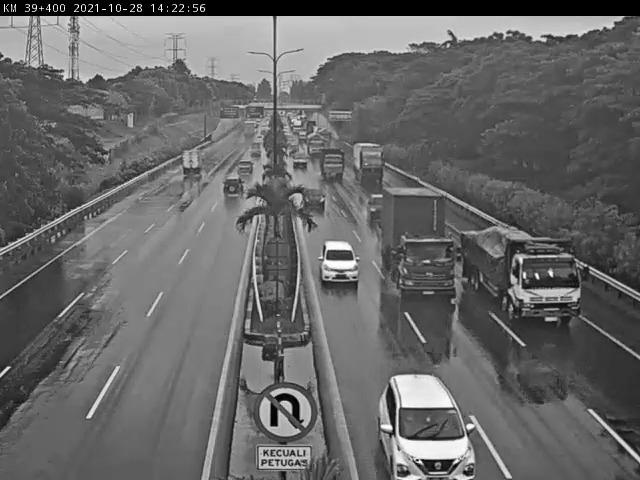big truck: (460, 225, 590, 324), (383, 188, 458, 302), (353, 140, 385, 181), (320, 147, 344, 182)
car: (377, 374, 479, 480), (319, 241, 360, 286), (305, 189, 327, 215), (184, 148, 205, 175), (225, 174, 245, 194), (237, 158, 255, 175), (293, 152, 309, 171)
